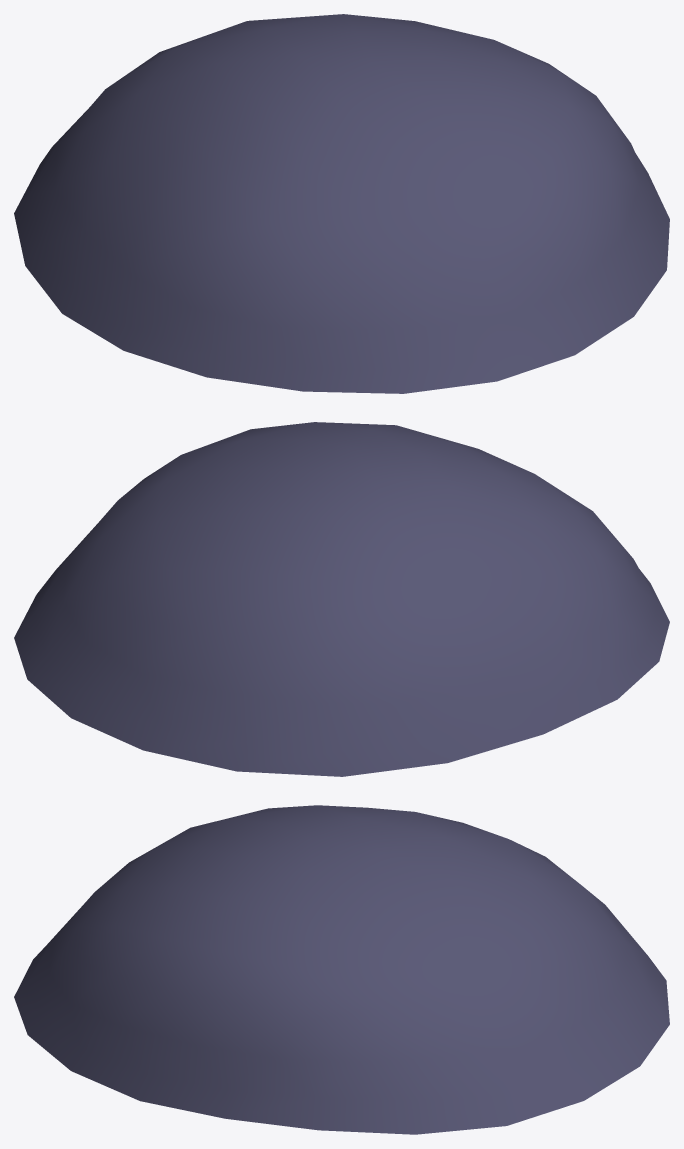
Rendered from Hill3_Bogdan.fbx.
3 views of the same model, one above another, from view 1: azimuth 30°, elevation 25°; view 2: azimuth 150°, elevation 25°; view 3: azimuth 270°, elevation 25° (orthographic). The views are drawn at different scales.
Visible parts, largest first — view 1: Hill3; view 2: Hill3; view 3: Hill3.
Boxes of the visible parts, <box> form: Hill3: <box>14,14,669,393</box>; Hill3: <box>14,422,669,776</box>; Hill3: <box>14,805,669,1134</box>.
Bounding box in the file's own units: 520 × 163 × 557.
